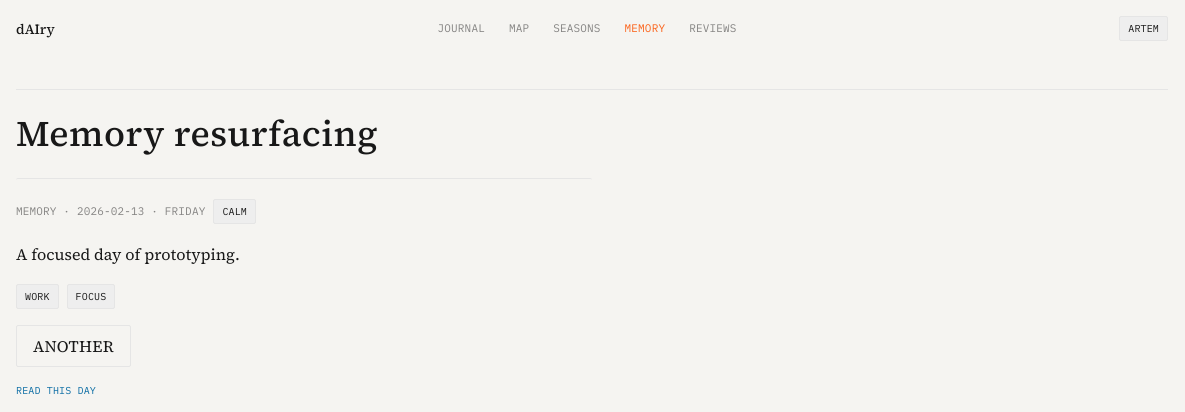
Phase 4 memory view › AC-6: clicking ANOTHER fetches /api/resurface again and replaces the day
The width and height of the screenshot is (1185, 412).
Expected: the heading "MEMORY · 2026-02-13 · FRIDAY" is shown, [16,203,205,220]
Step 1. Click the button "ANOTHER" → (74, 346), box [16,325,131,367]
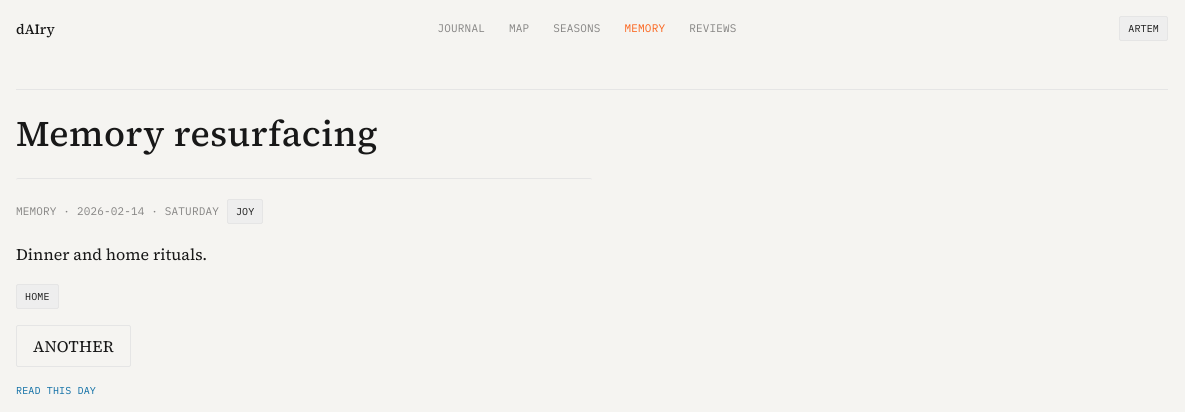
Result: the heading "MEMORY · 2026-02-14 · SATURDAY" is shown at [16,203,219,220]
Result: the heading "MEMORY · 2026-02-13 · FRIDAY" is gone
